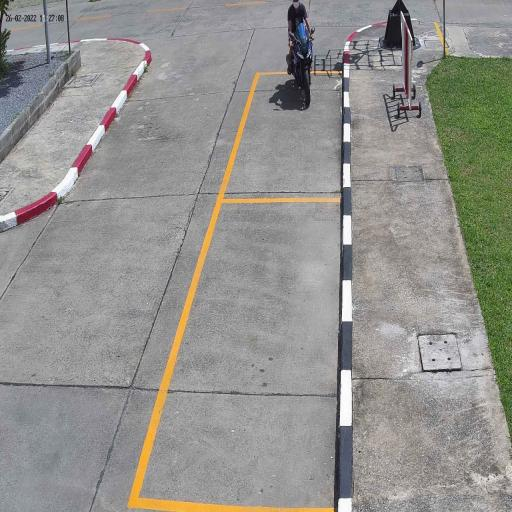motorcycle: (288, 22, 314, 105)
